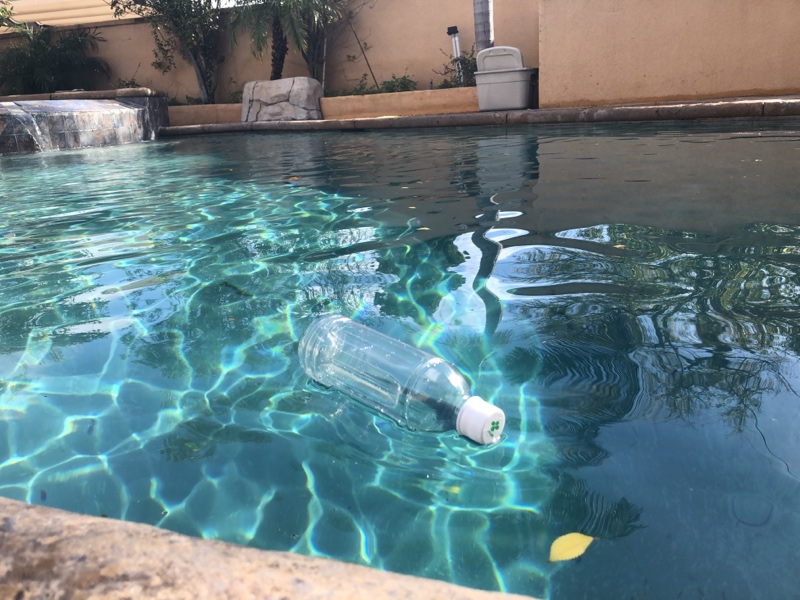Plastic Bottle: (295, 309, 506, 453)
